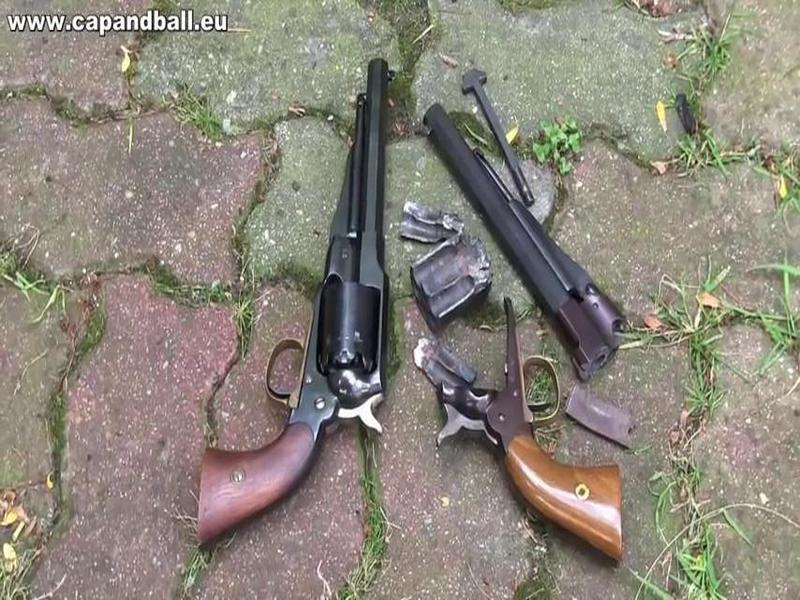Revolver: (294, 54, 402, 454)
